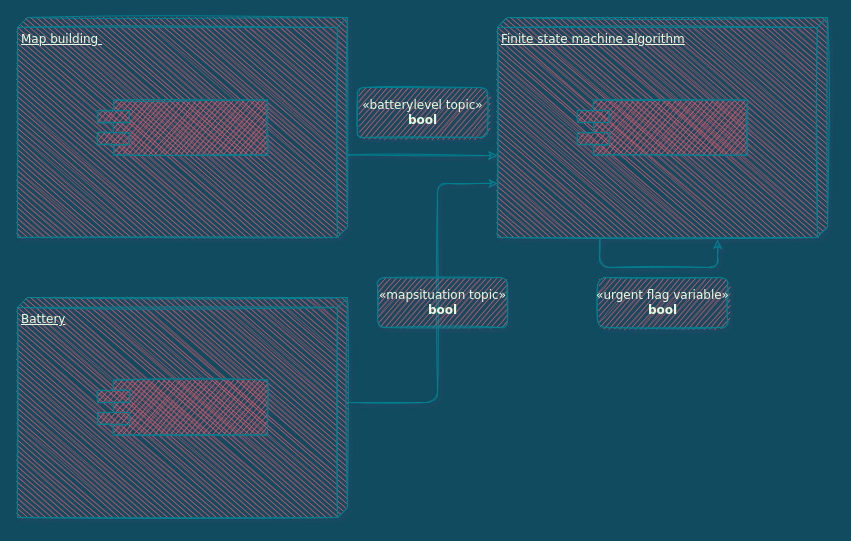
Some shapes in this 851 by 541 pixel diagram are drawn without their labels. The shapes that lost their labels are listed below. From the top down, each one's centre as x and y in pixels, then its label:
At [182,127]: "Ontologybuild node".
At [662,127]: "finitestates node".
At [182,407]: "batterynode".
